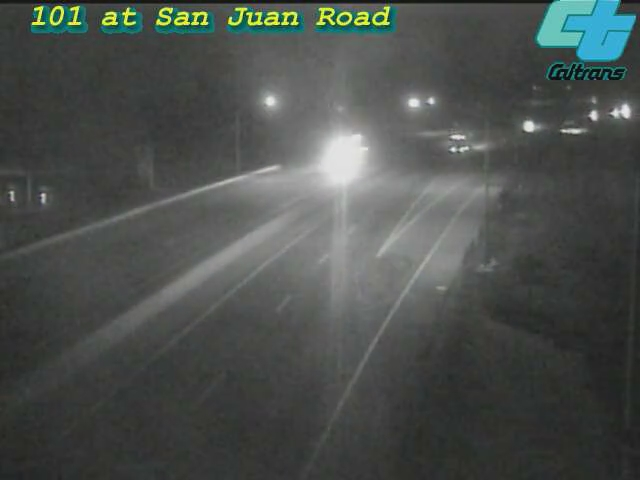vehicle: (315, 129, 365, 179), (510, 100, 560, 150), (543, 106, 593, 156), (438, 115, 488, 165), (567, 90, 617, 140), (600, 87, 640, 137)
